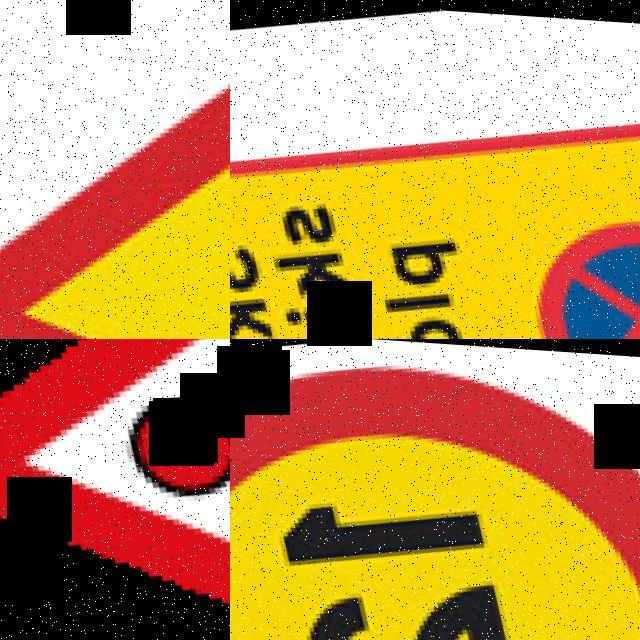141: (0, 0, 230, 339)
177: (230, 68, 640, 339)
No vehicles exceeding 12 tonnes: (230, 339, 640, 640)
Traffic signals: (0, 339, 230, 640)
